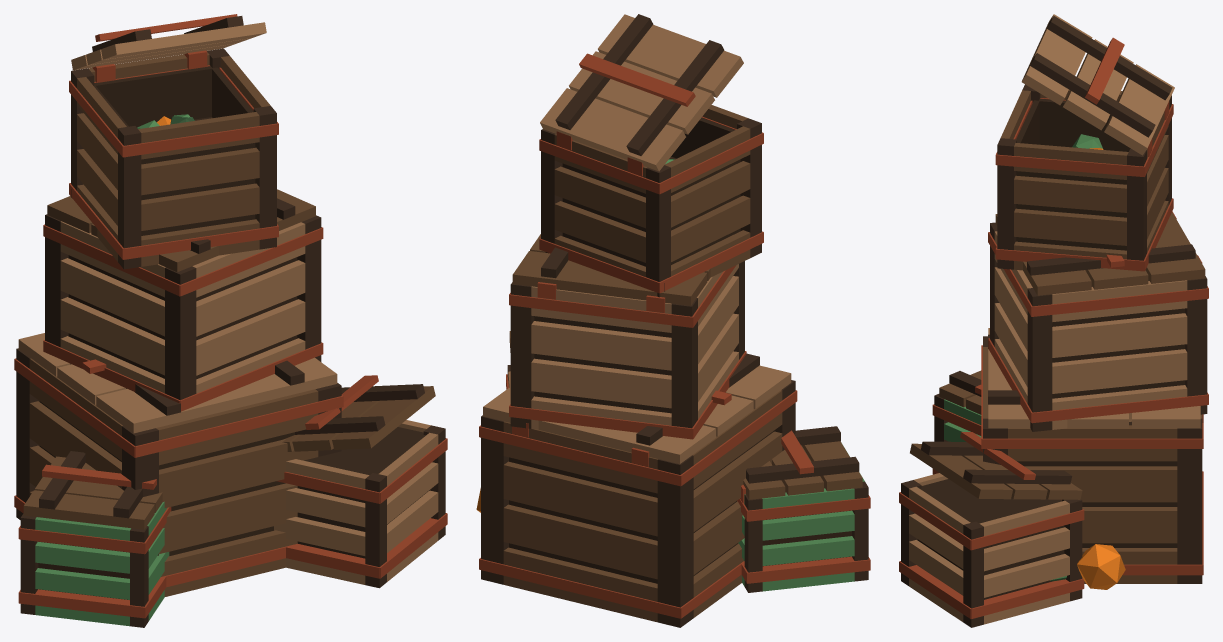
File: boxbuah.glb
The picture shows the model from 3 angles, left to right: view 1: azimuth 30°, elevation 25°; view 2: azimuth 150°, elevation 25°; view 3: azimuth 270°, elevation 25°; orthographic projection. The views are drawn at different scales.
Visible parts, largest first — view 1: part-mud_brown (×2), part-mud_brown_light (×2), part-rust (×5), part-dark_wood (×5), part-mud_brown_dark (×5), lid-mud_brown_light (×2), lid-mud_brown (×3), part-sickly_green, lid-dark_wood (×4), lid-rust (×3); view 2: part-mud_brown (×2), part-dark_wood (×4), part-rust (×4), lid-mud_brown_light (×2), part-mud_brown_light, part-mud_brown_dark (×4), lid-dark_wood (×4), lid-mud_brown (×2), part-sickly_green, lid-rust (×2); view 3: part-mud_brown_light (×2), part-mud_brown (×2), part-rust (×5), part-dark_wood (×4), part-mud_brown_dark (×4), lid-mud_brown_light (×2), lid-dark_wood (×5), lid-mud_brown (×3), lid-rust (×2), spilled-produce-0, part-sickly_green.
Boxes of the visible parts, bbox=[...] form: part-mud_brown (×2): bbox=[29, 52, 318, 596]; part-mud_brown_light (×2): bbox=[60, 221, 438, 584]; part-rust (×5): bbox=[14, 50, 447, 618]; part-dark_wood (×5): bbox=[16, 48, 445, 627]; part-mud_brown_dark (×5): bbox=[38, 66, 427, 599]; lid-mud_brown_light (×2): bbox=[18, 22, 337, 433]; lid-mud_brown (×3): bbox=[23, 189, 435, 529]; part-sickly_green: bbox=[35, 501, 169, 626]; lid-dark_wood (×4): bbox=[39, 16, 424, 518]; lid-rust (×3): bbox=[42, 14, 378, 489]; part-mud_brown (×2): bbox=[503, 105, 782, 622]; part-dark_wood (×4): bbox=[481, 118, 868, 627]; part-rust (×4): bbox=[479, 116, 870, 618]; lid-mud_brown_light (×2): bbox=[483, 14, 791, 464]; part-mud_brown_light: bbox=[531, 264, 738, 429]; part-mud_brown_dark (×4): bbox=[509, 117, 851, 583]; lid-dark_wood (×4): bbox=[541, 14, 859, 483]; lid-mud_brown (×2): bbox=[512, 234, 862, 499]; part-sickly_green: bbox=[738, 447, 864, 591]; lid-rust (×2): bbox=[579, 53, 813, 474]; part-mud_brown_light (×2): bbox=[909, 231, 1187, 624]; part-mud_brown (×2): bbox=[983, 89, 1202, 583]; part-rust (×5): bbox=[899, 98, 1208, 618]; part-dark_wood (×4): bbox=[901, 84, 1207, 627]; part-mud_brown_dark (×4): bbox=[917, 98, 1184, 599]; lid-mud_brown_light (×2): bbox=[988, 14, 1200, 428]; lid-dark_wood (×5): bbox=[920, 16, 1195, 484]; lid-mud_brown (×3): bbox=[910, 212, 1205, 499]; lid-rust (×2): bbox=[960, 37, 1124, 479]; spilled-produce-0: bbox=[1077, 544, 1125, 589]; part-sickly_green: bbox=[944, 399, 981, 441].
Bounding box in the file's own units: 0.859 × 1.09 × 0.6217.
